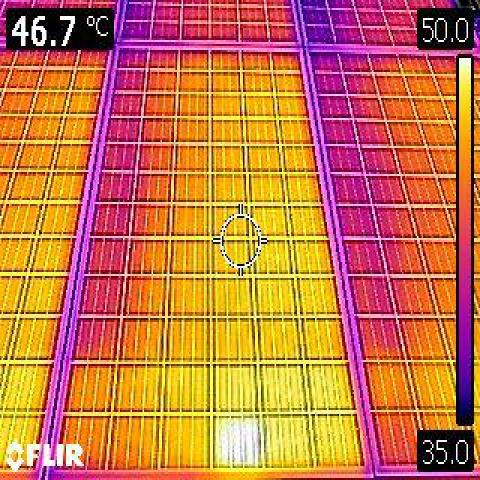fault: (212, 414, 263, 471)
